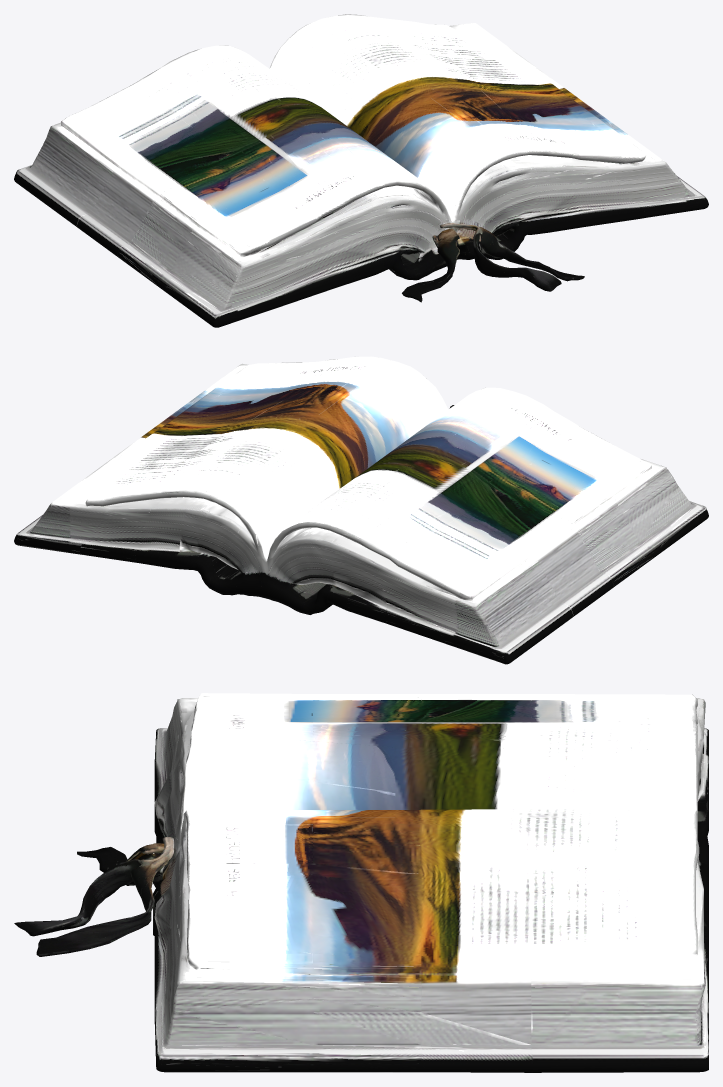
The model's file is open_book.glb.
The picture shows the model from 3 angles, top to bottom: view 1: azimuth 30°, elevation 25°; view 2: azimuth 150°, elevation 25°; view 3: azimuth 270°, elevation 25°; orthographic projection. The views are drawn at different scales.
Size of the model in its own units: 1.91 by 0.3483 by 1.68.
1 material, 1 textured.
